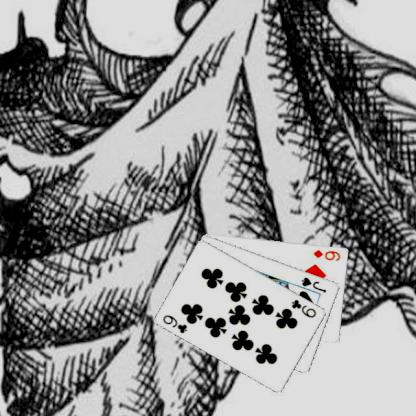6D: (310, 247, 342, 262)
9C: (288, 296, 318, 320), (160, 312, 189, 335)
JS: (299, 274, 328, 294)
